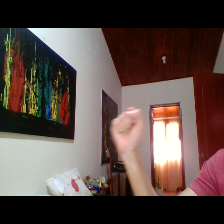9D: (106, 103, 148, 158)
